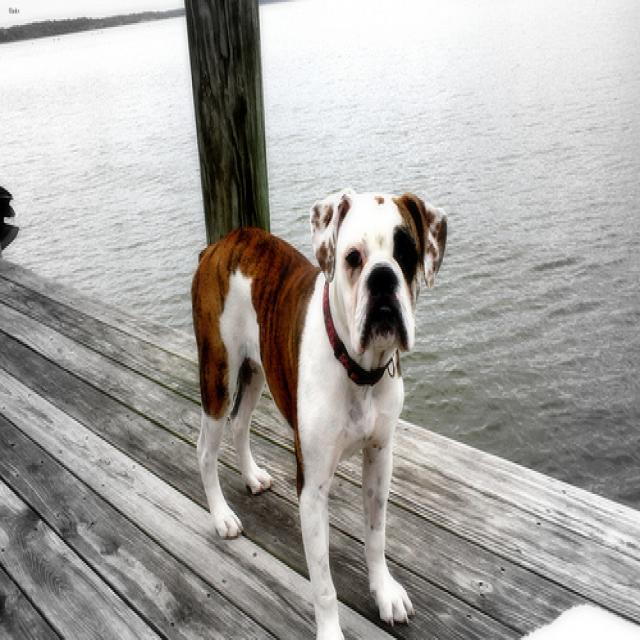dog-american_bulldog: (175, 179, 458, 636)
